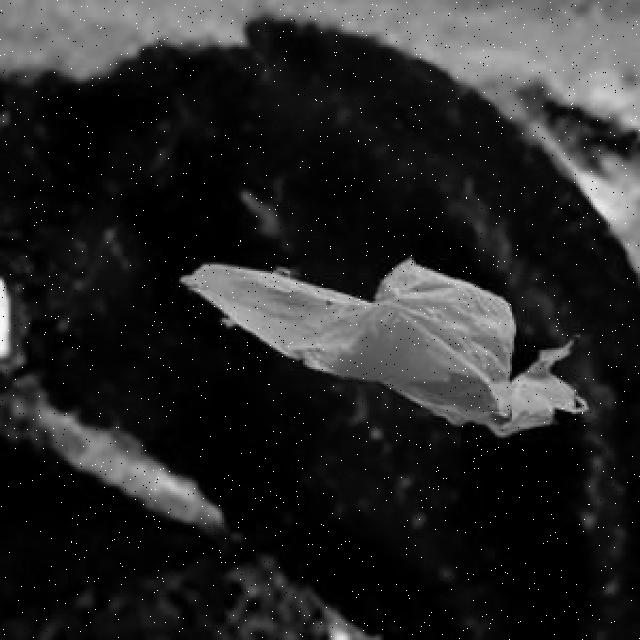plastic_bag: (184, 260, 588, 431)
